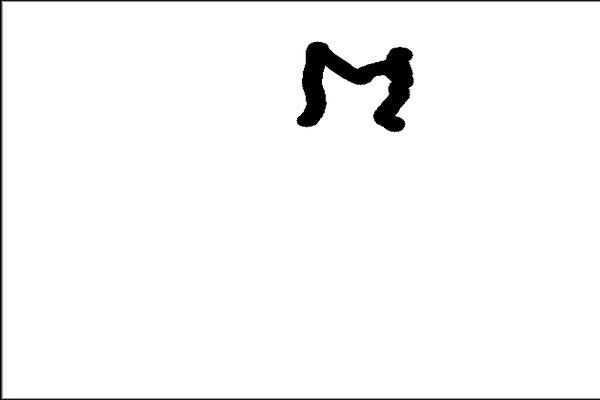M: (297, 37, 415, 139)
